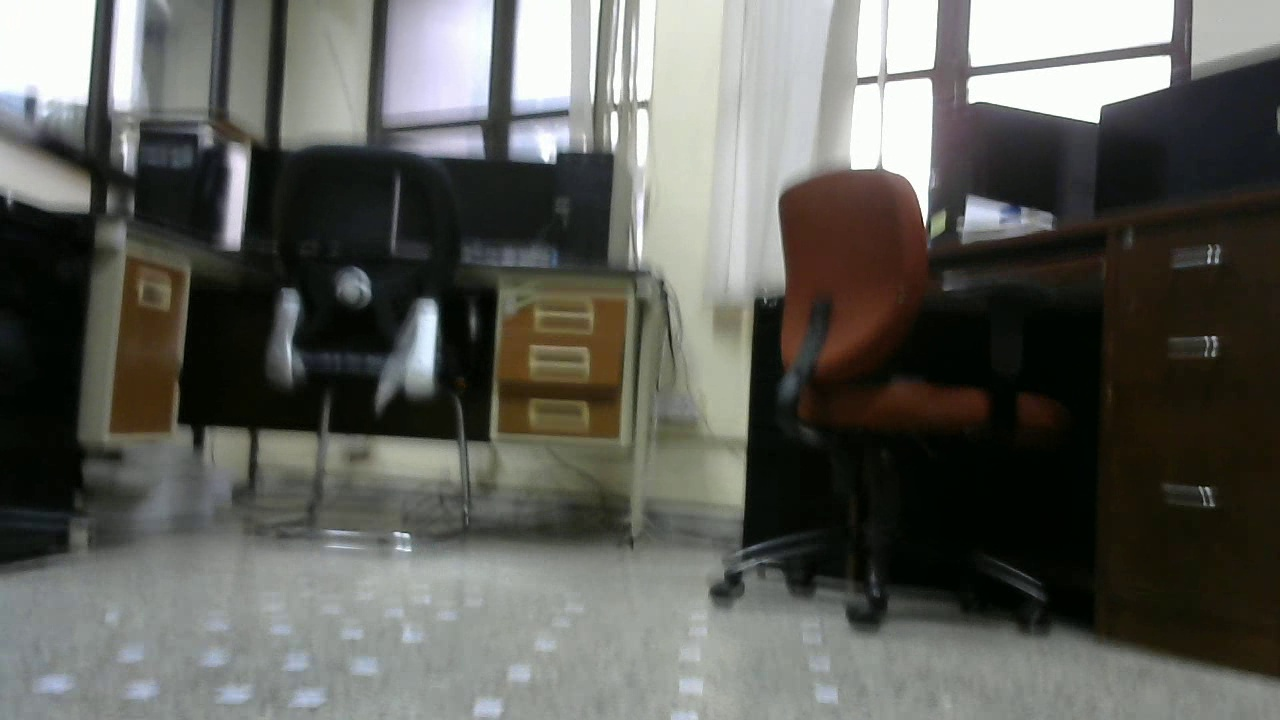chair: (706, 165, 1067, 642), (258, 147, 478, 549)
